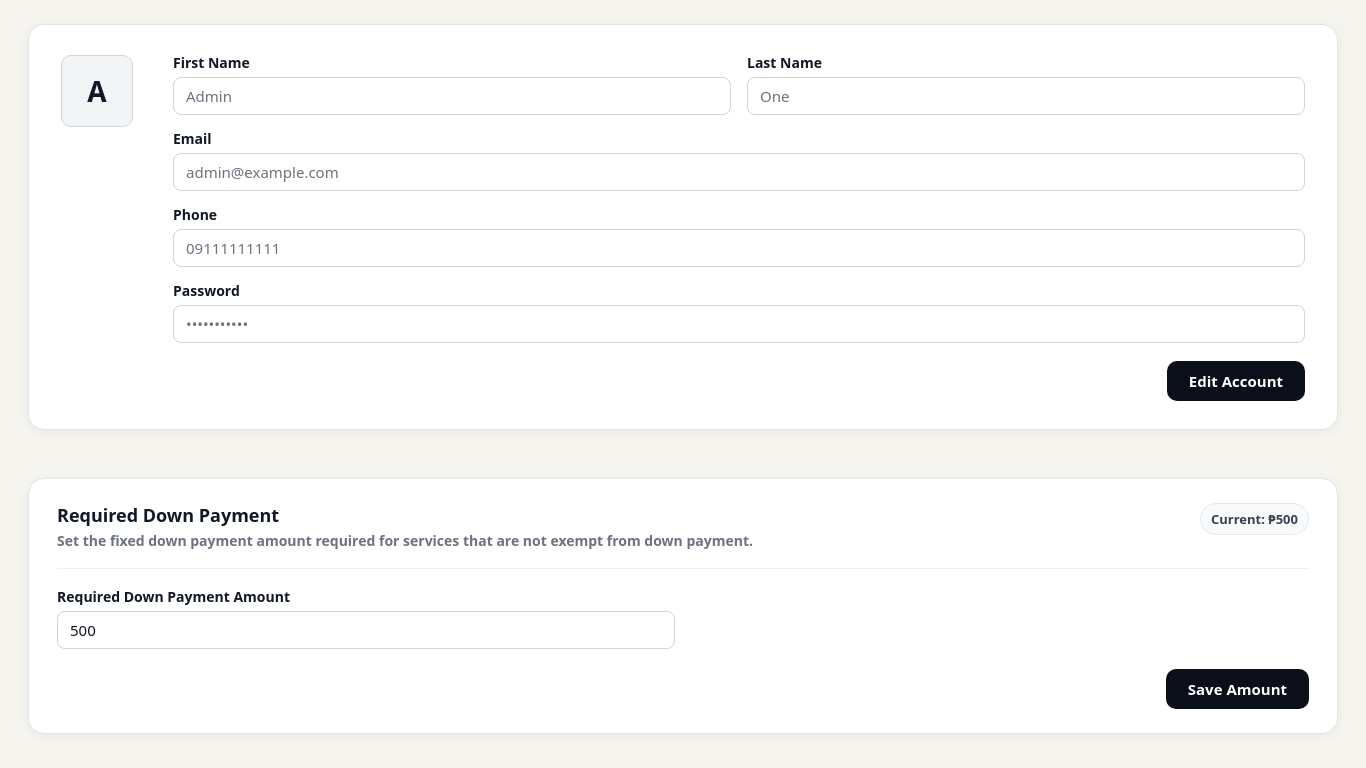
Admin Profile Edit Account › opens with current profile data
Click the button "Edit Account" at (1236, 381), box [1167,361,1305,401]
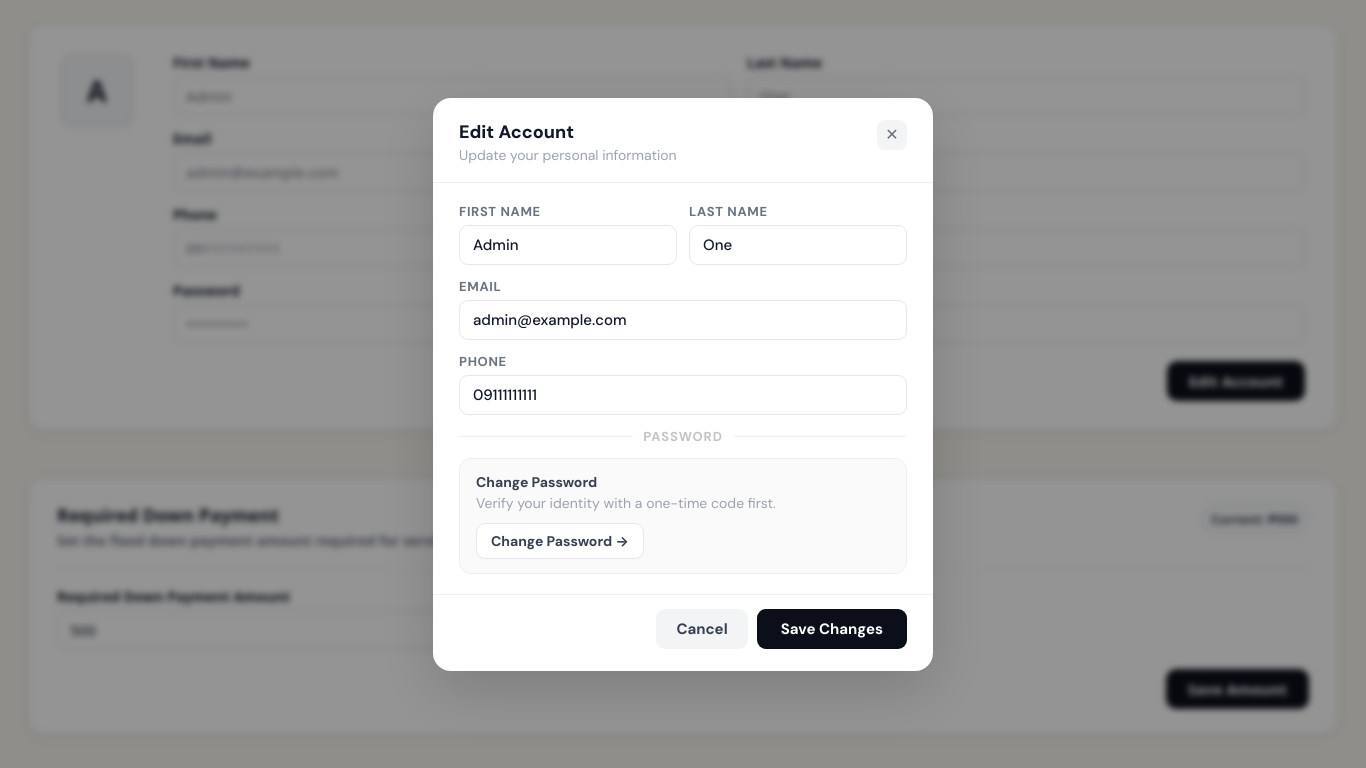
Result: the field named "Edit first name" holds "Admin" at [459,224,677,264]
Result: the field named "Edit last name" holds "One" at [689,224,907,264]
Result: the field named "Edit email" holds "admin@example.com" at [459,300,907,340]
